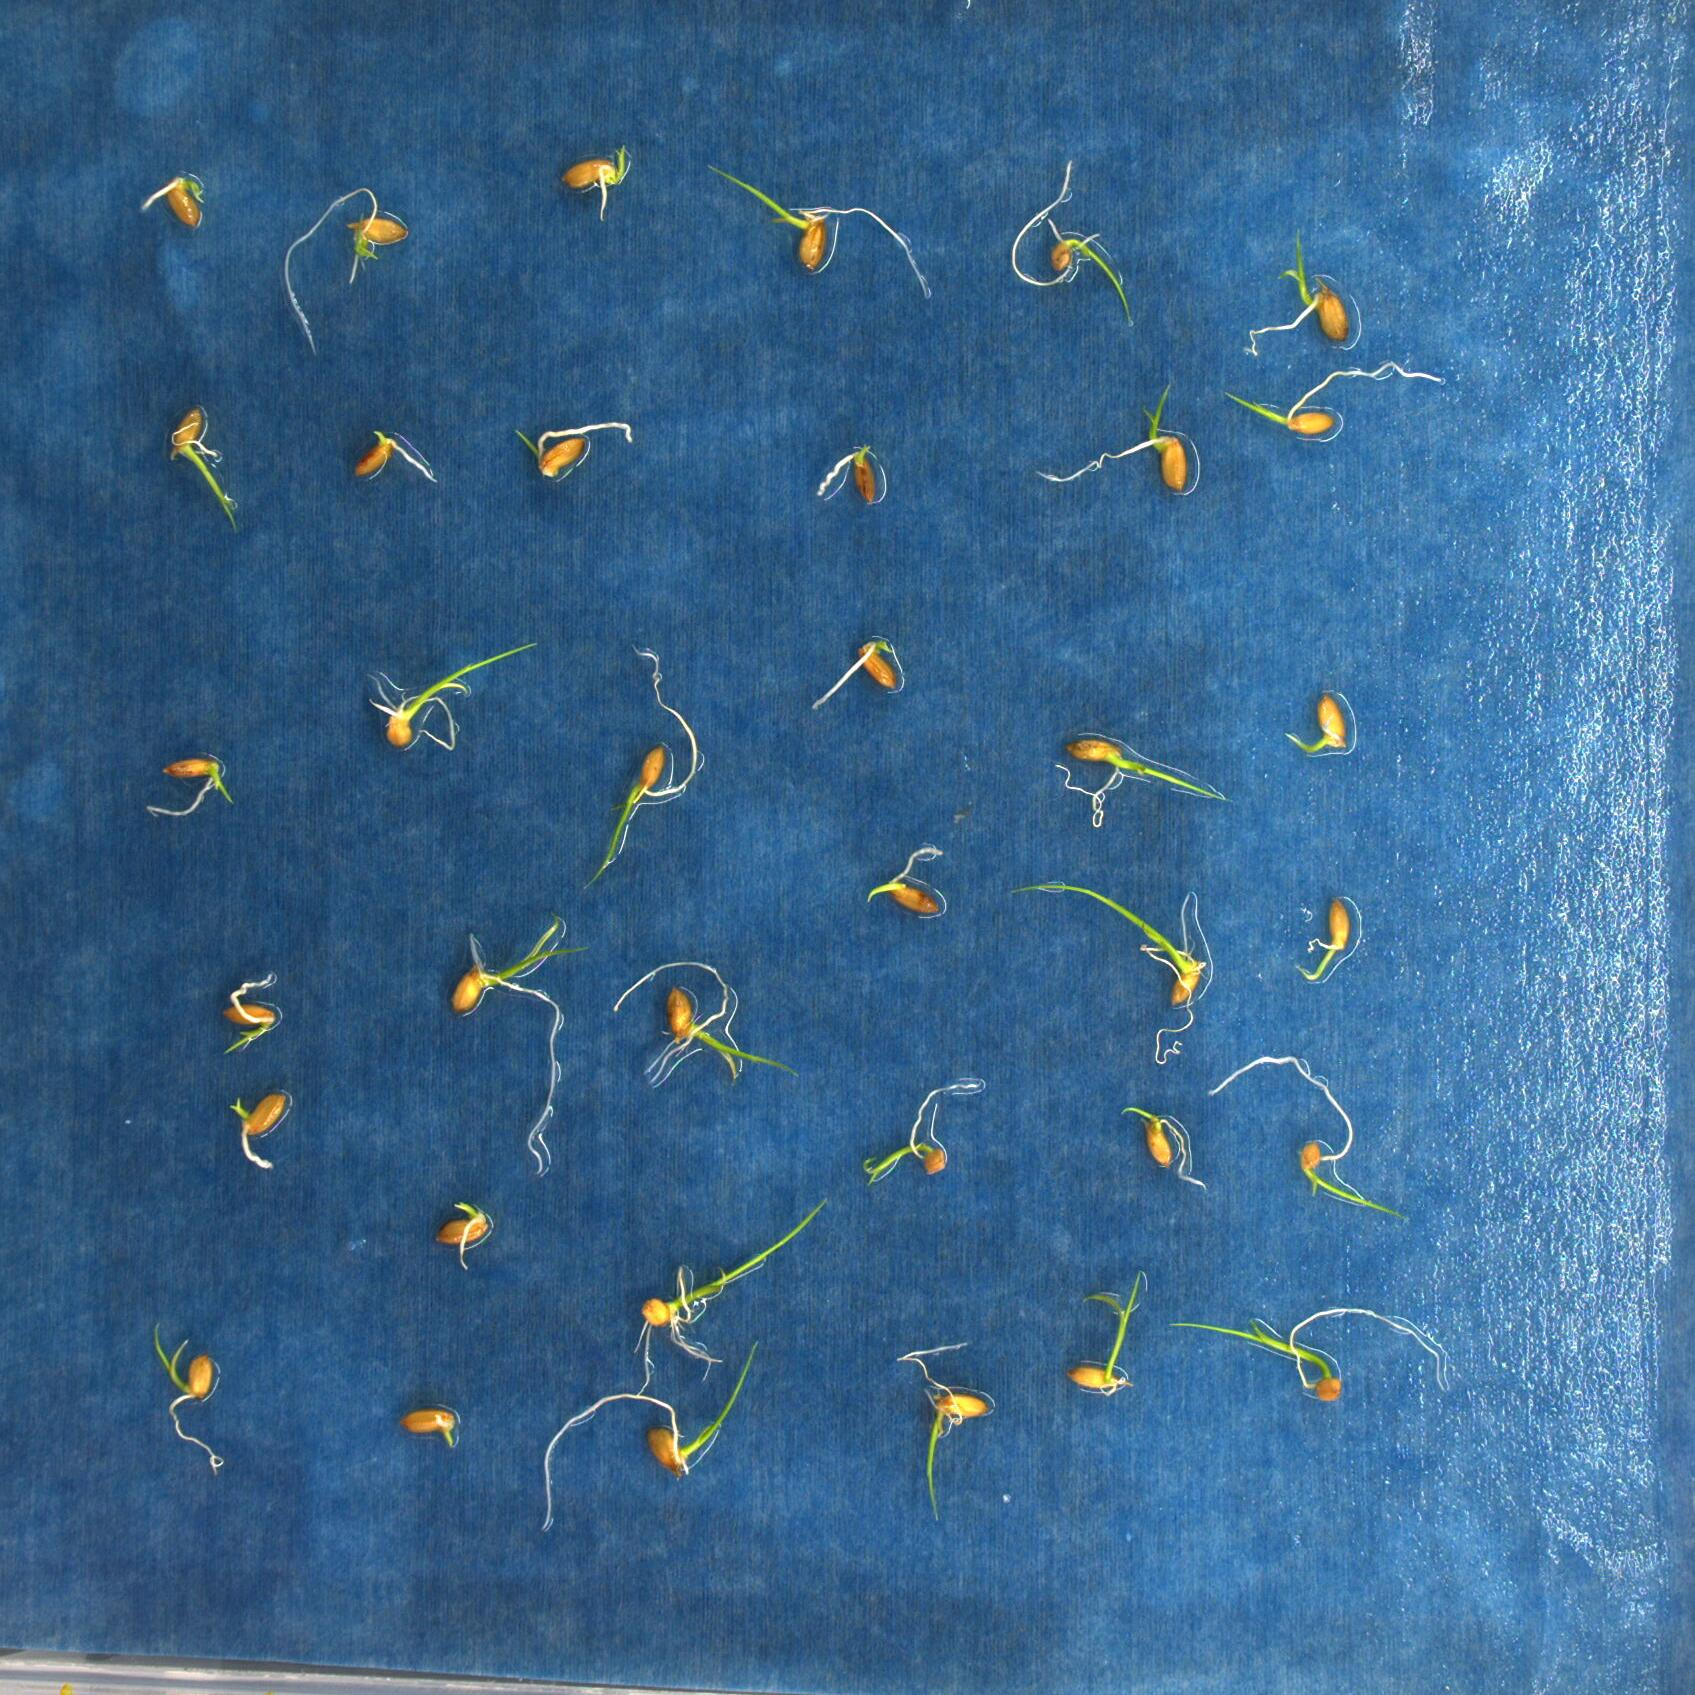not sprout: (337, 413, 447, 498), (810, 632, 922, 706), (865, 843, 959, 925), (799, 450, 896, 512), (231, 1090, 303, 1166), (400, 1395, 461, 1458)
sprout: (540, 1329, 776, 1558), (619, 1183, 849, 1400), (1028, 830, 1225, 1074), (695, 147, 927, 321), (1212, 1046, 1425, 1226), (1159, 1298, 1458, 1420), (445, 917, 577, 1183), (577, 649, 706, 894), (359, 626, 546, 764), (281, 171, 413, 365), (618, 956, 804, 1093), (983, 174, 1183, 296), (1021, 720, 1225, 832), (855, 1063, 1003, 1212), (883, 1330, 998, 1520), (1031, 376, 1198, 500), (1226, 362, 1433, 459), (1246, 234, 1375, 380), (141, 1319, 244, 1478), (1068, 1251, 1153, 1419), (147, 397, 244, 542), (498, 411, 643, 480), (1114, 1093, 1208, 1198), (1288, 893, 1366, 989), (553, 143, 647, 220), (138, 744, 233, 820), (217, 965, 296, 1052), (1284, 681, 1369, 761), (428, 1200, 500, 1263), (141, 168, 210, 231)
